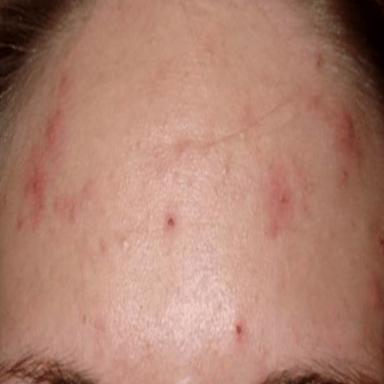acne: (17, 75, 72, 231), (270, 164, 291, 236), (335, 110, 361, 158), (337, 165, 349, 190), (235, 318, 245, 336), (167, 216, 175, 226)
